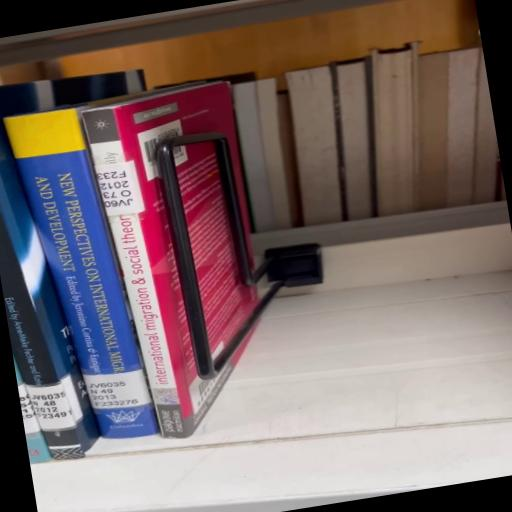reverse: (83, 82, 265, 439)
